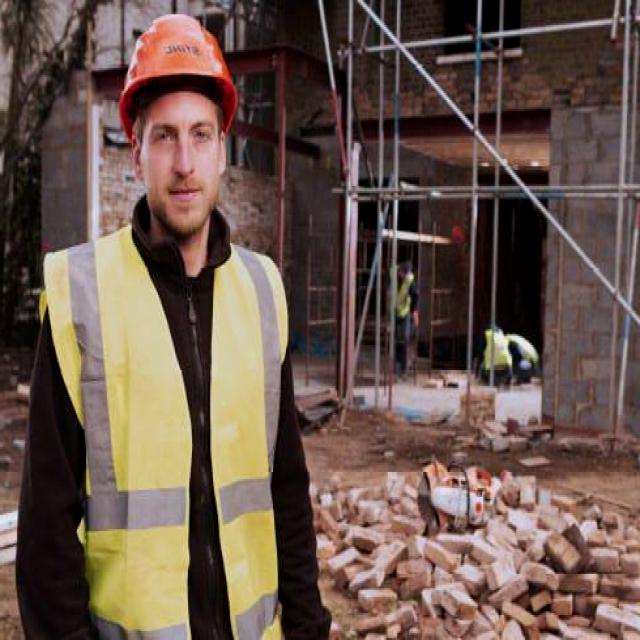face_nomask: (132, 90, 223, 234)
head_helmet: (117, 12, 240, 122)
person: (23, 19, 309, 636), (381, 256, 418, 363), (478, 320, 512, 384), (507, 331, 538, 372)
vest: (61, 247, 286, 628), (396, 270, 415, 322), (486, 331, 505, 366)
